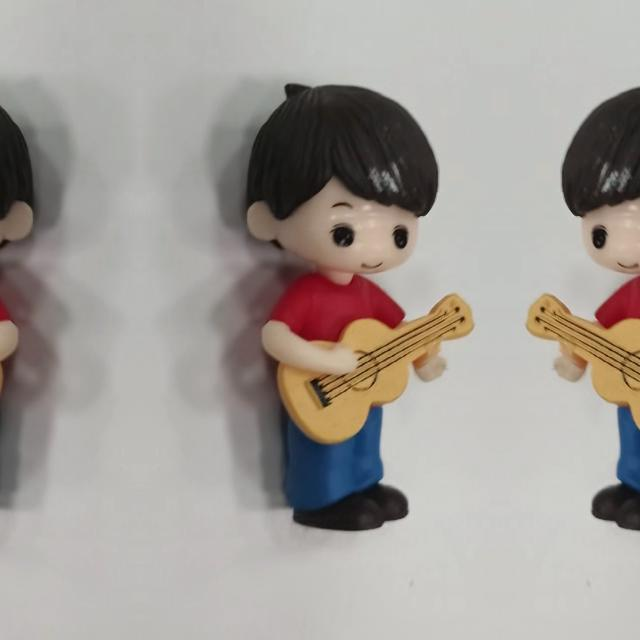man cloth: (258, 278, 432, 402), (568, 278, 640, 402), (0, 278, 21, 402)
man head: (223, 70, 442, 280), (557, 69, 640, 280), (0, 69, 56, 280)
trousers: (280, 408, 428, 554), (572, 408, 640, 554)
